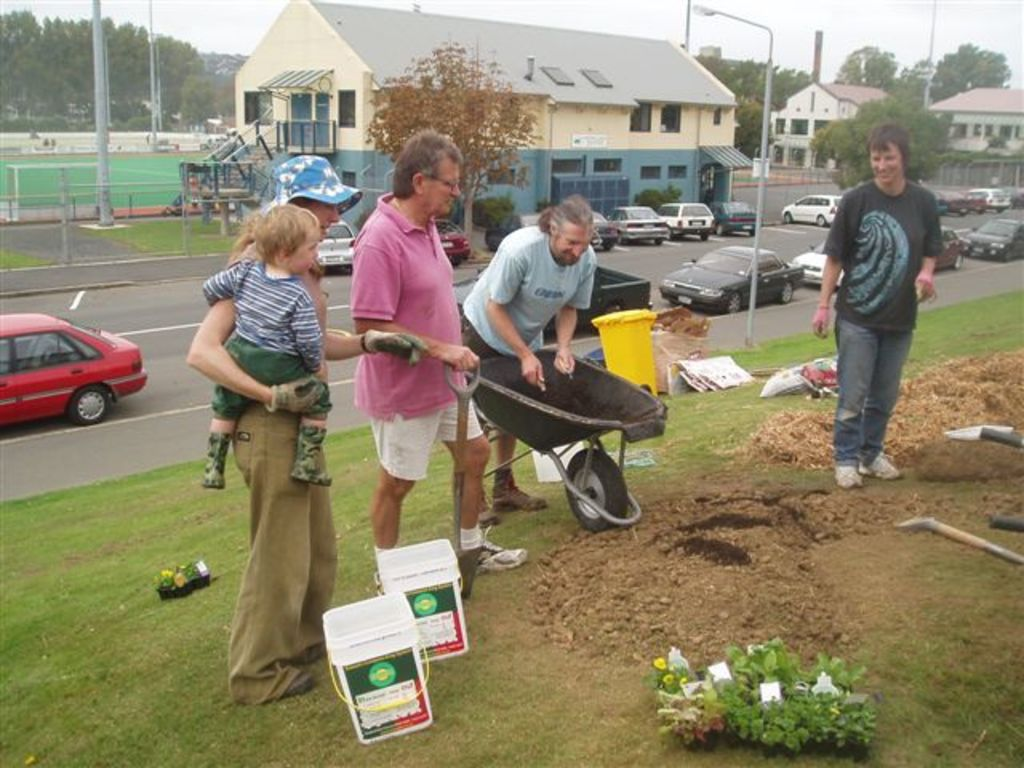cars: (0, 305, 148, 422), (652, 243, 804, 318), (792, 239, 846, 291), (968, 214, 1022, 259), (610, 204, 674, 241), (314, 221, 356, 275), (654, 204, 717, 238), (780, 193, 841, 226), (932, 225, 967, 266), (713, 205, 760, 235), (439, 219, 467, 264), (589, 213, 621, 251)
